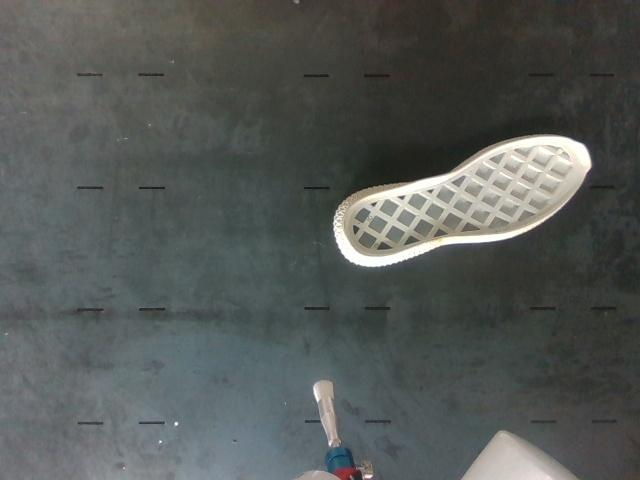shoes: (343, 137, 589, 257)
